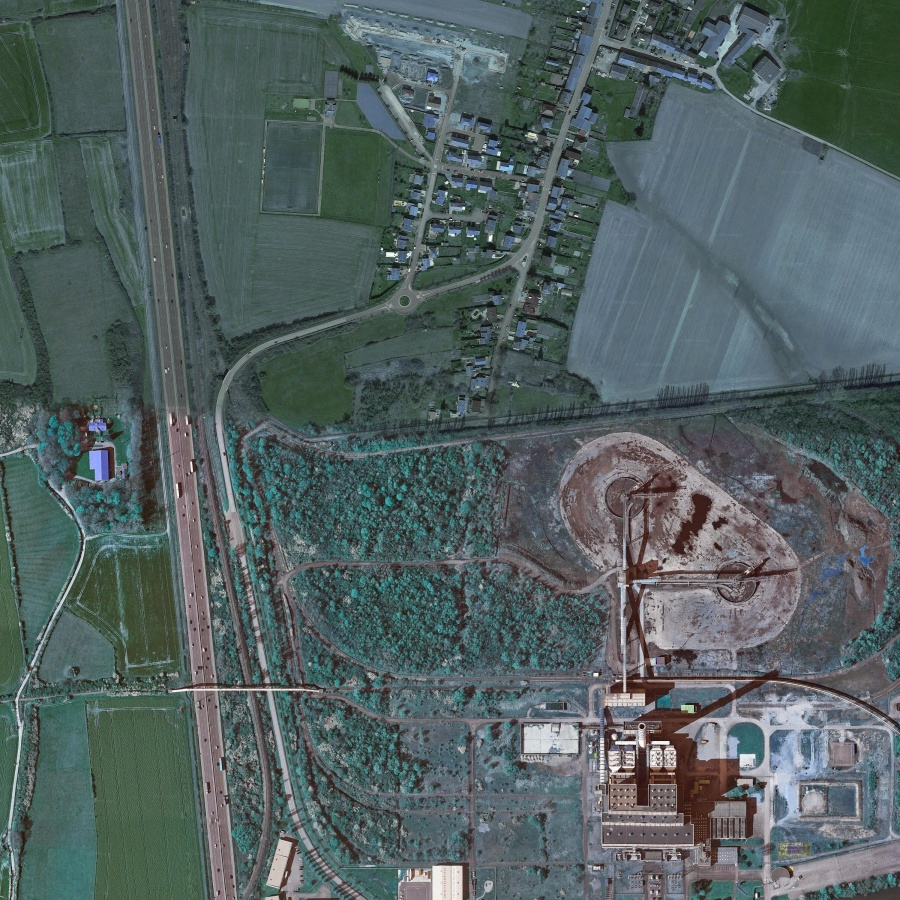PowerPlant: (527, 432, 800, 858)
